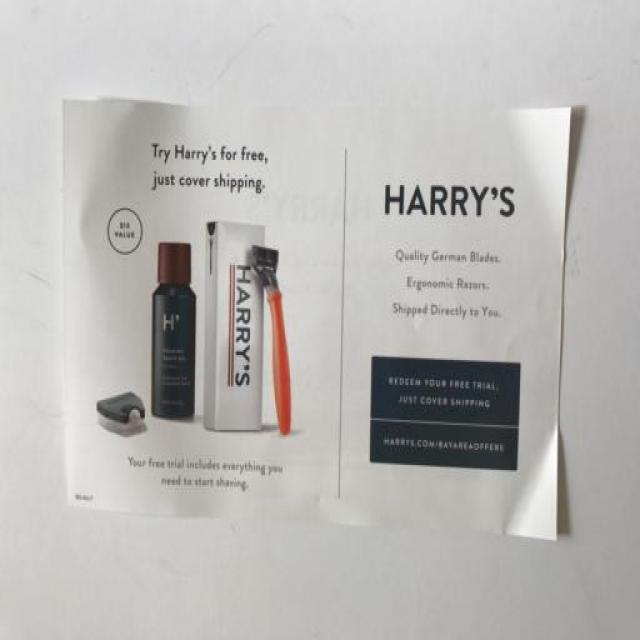paper: (47, 41, 625, 591)
